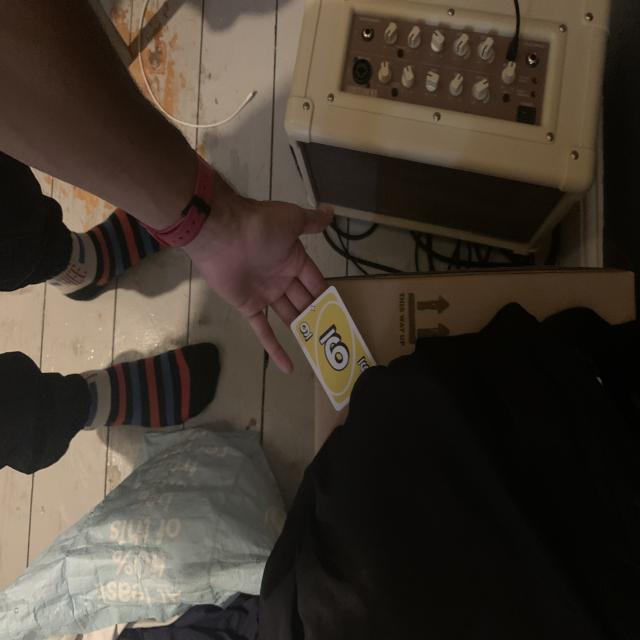lyellow-9: (298, 320, 314, 341)
